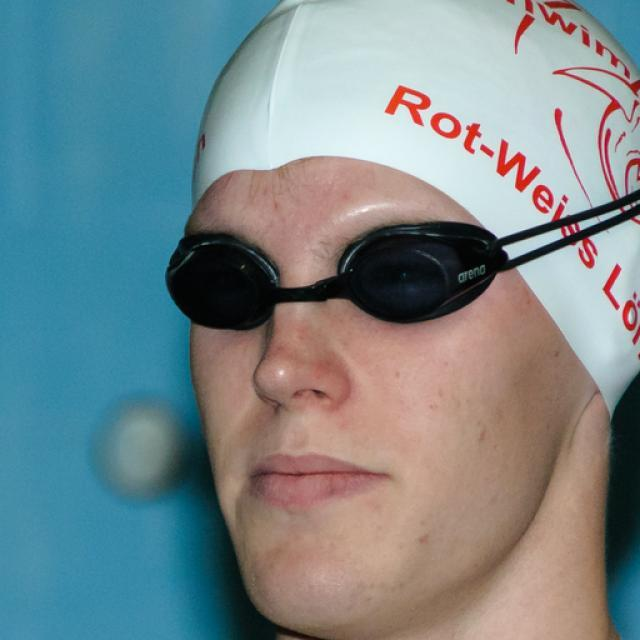neutral: (181, 152, 608, 640)
